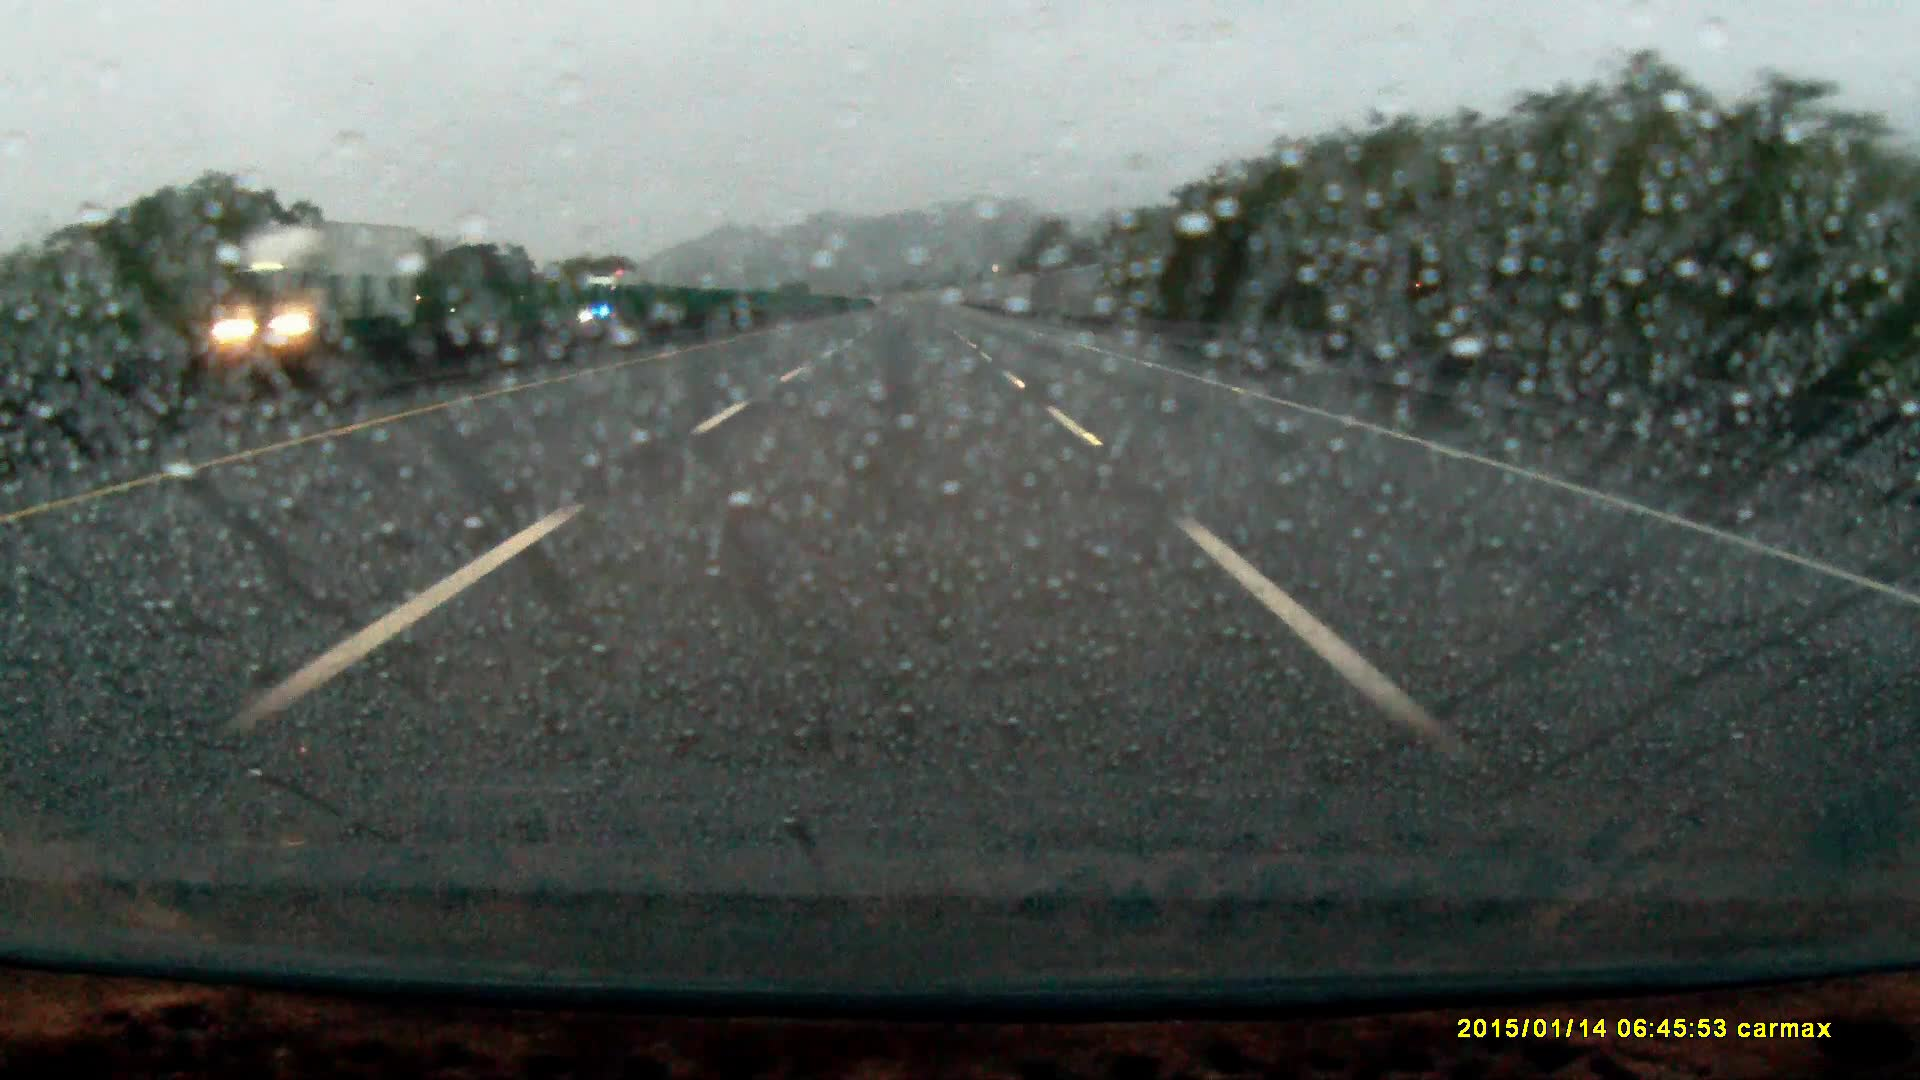vehicle: (200, 218, 436, 380), (582, 270, 646, 322)
